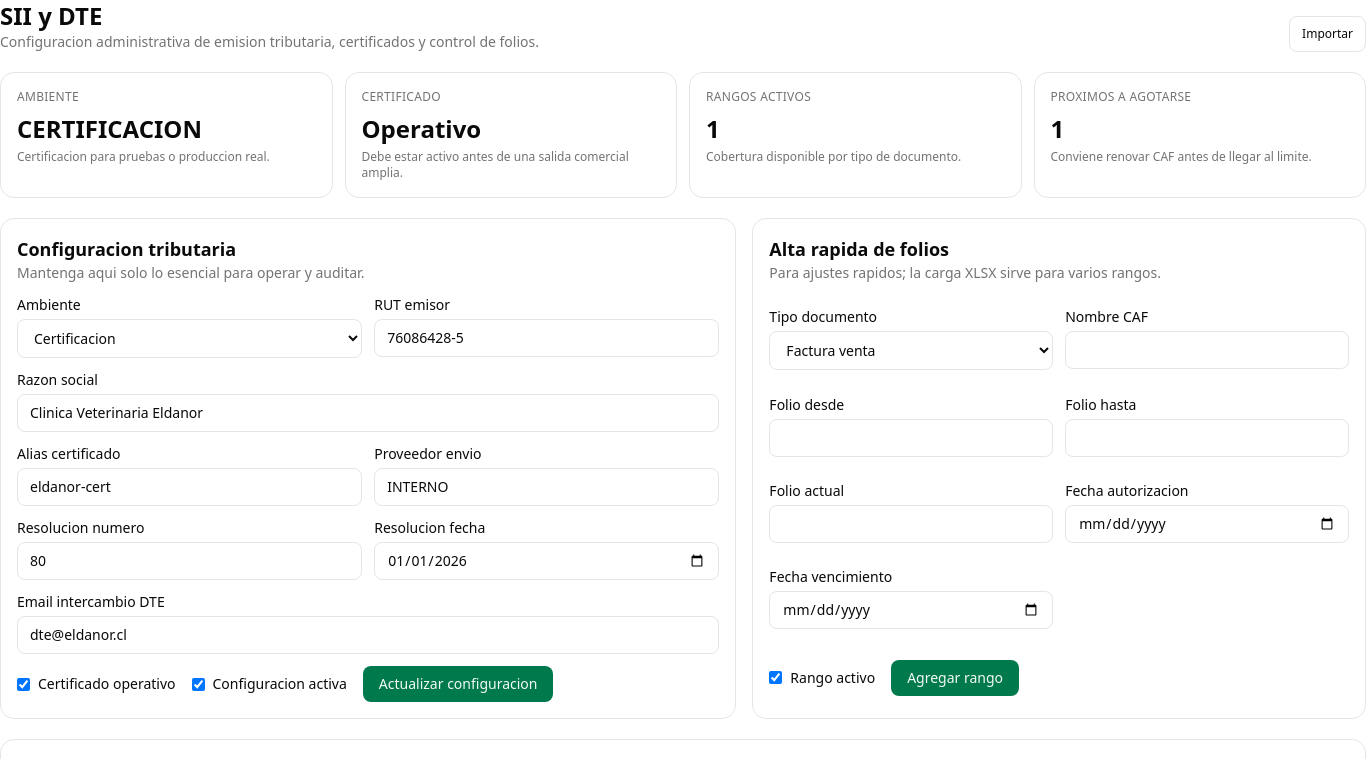
facturacion/FacturacionSiiPage › carga configuracion y registra un rango tributario
Expected: the heading "SII y DTE" is shown, [0, 0, 102, 32]
Expected: the field showing "Clinica Veterinaria Eldanor" is shown, [17, 394, 719, 432]
Type "CAF GUIAS" into the field labelled "Nombre CAF" at (1207, 350), box [1065, 331, 1349, 369]
Type "500" into the number field labelled "Folio desde" at (911, 438), box [769, 419, 1053, 457]
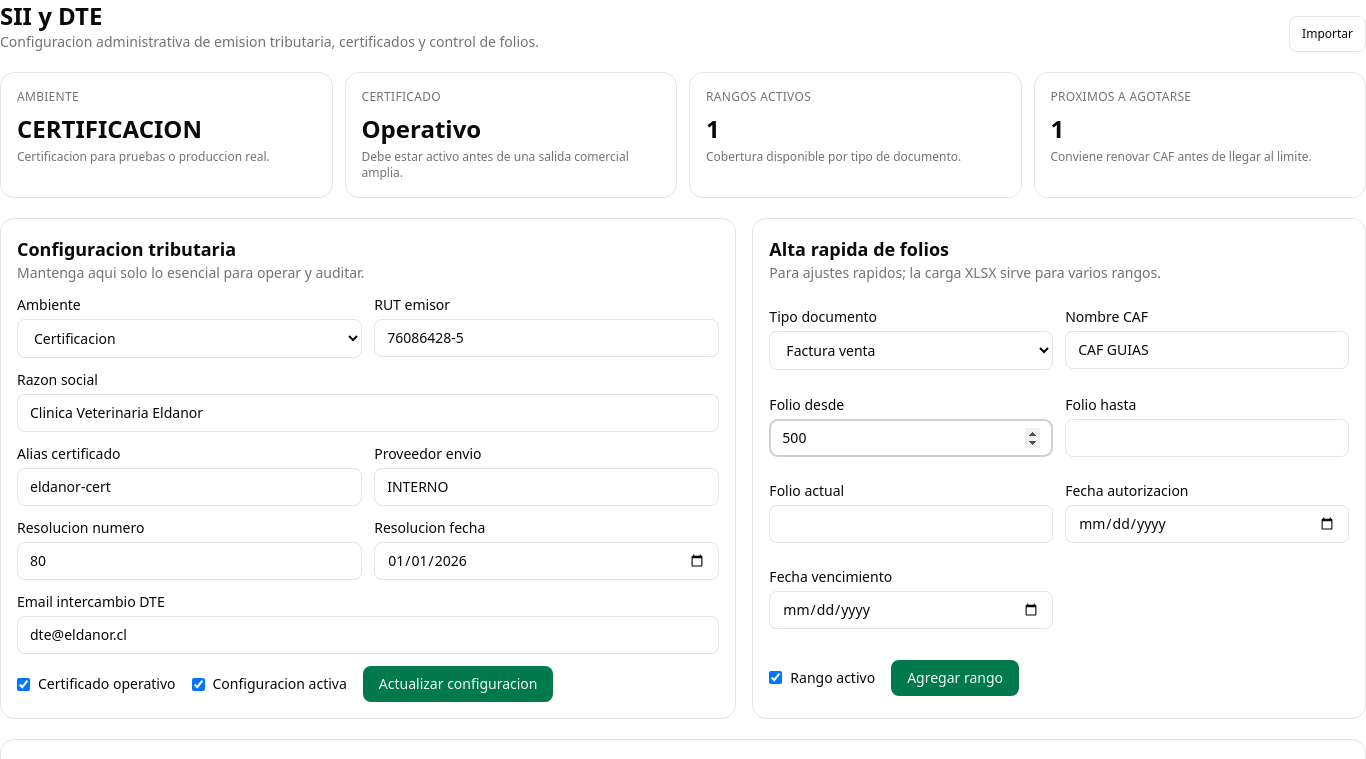
Type "600" into the number field labelled "Folio hasta" at (1207, 438), box [1065, 419, 1349, 457]
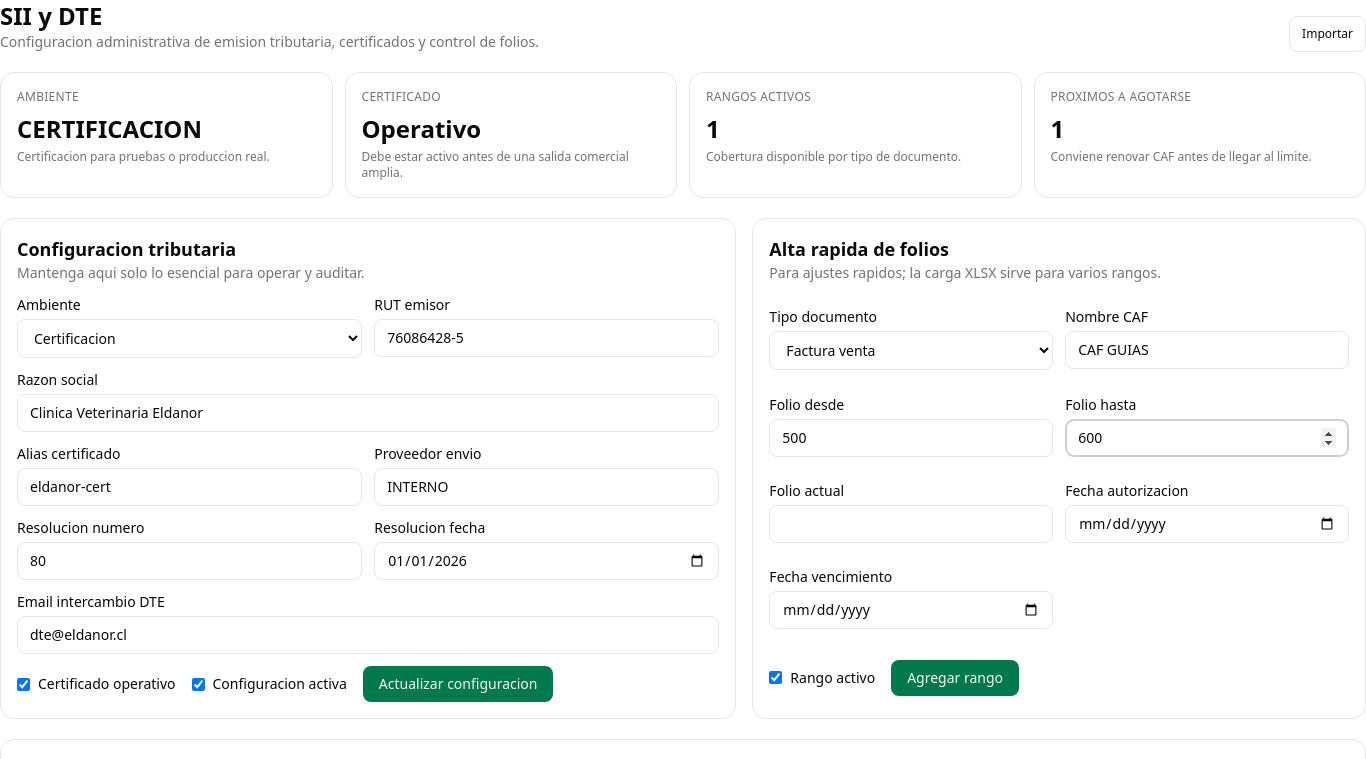
Type "2026-01-01" into the date field labelled "Fecha autorizacion" at (1207, 524), box [1065, 505, 1349, 543]
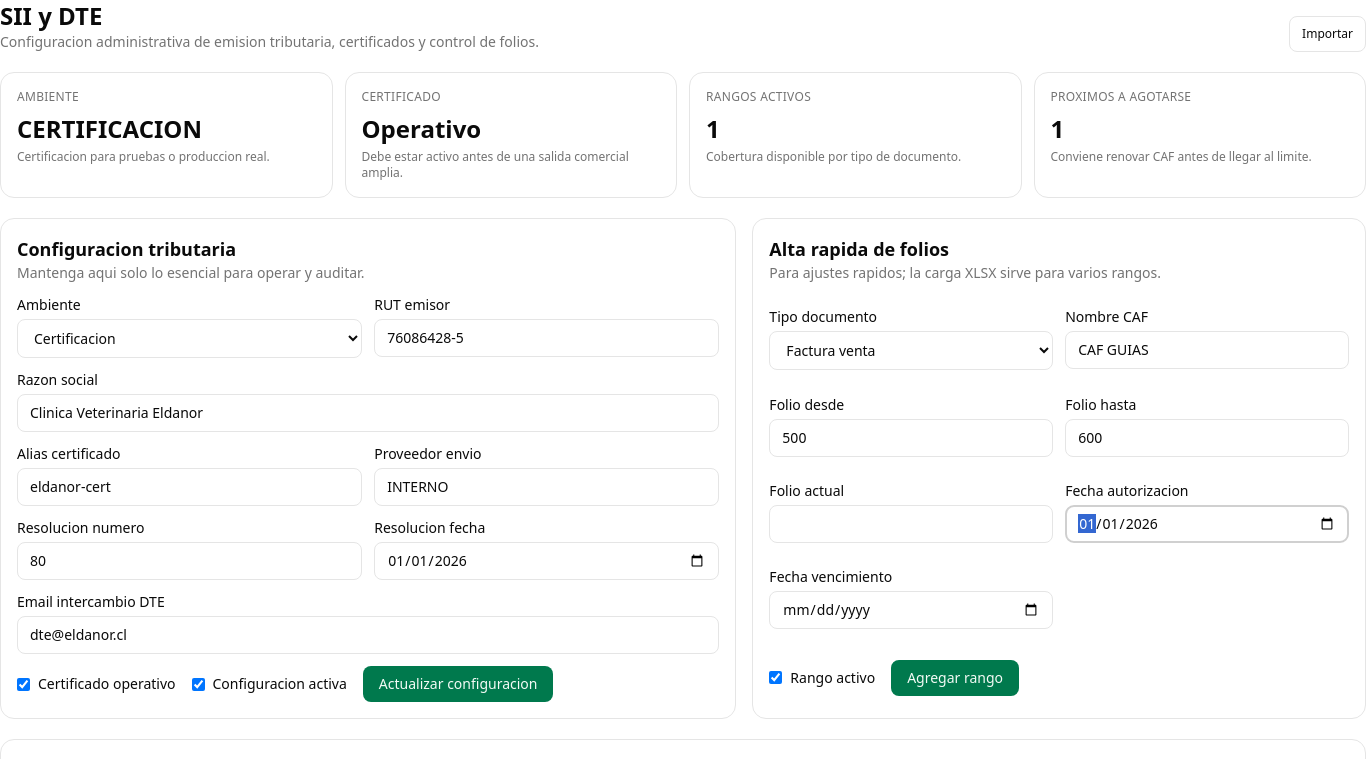
Type "2026-12-31" into the date field labelled "Fecha vencimiento" at (911, 610), box [769, 591, 1053, 629]
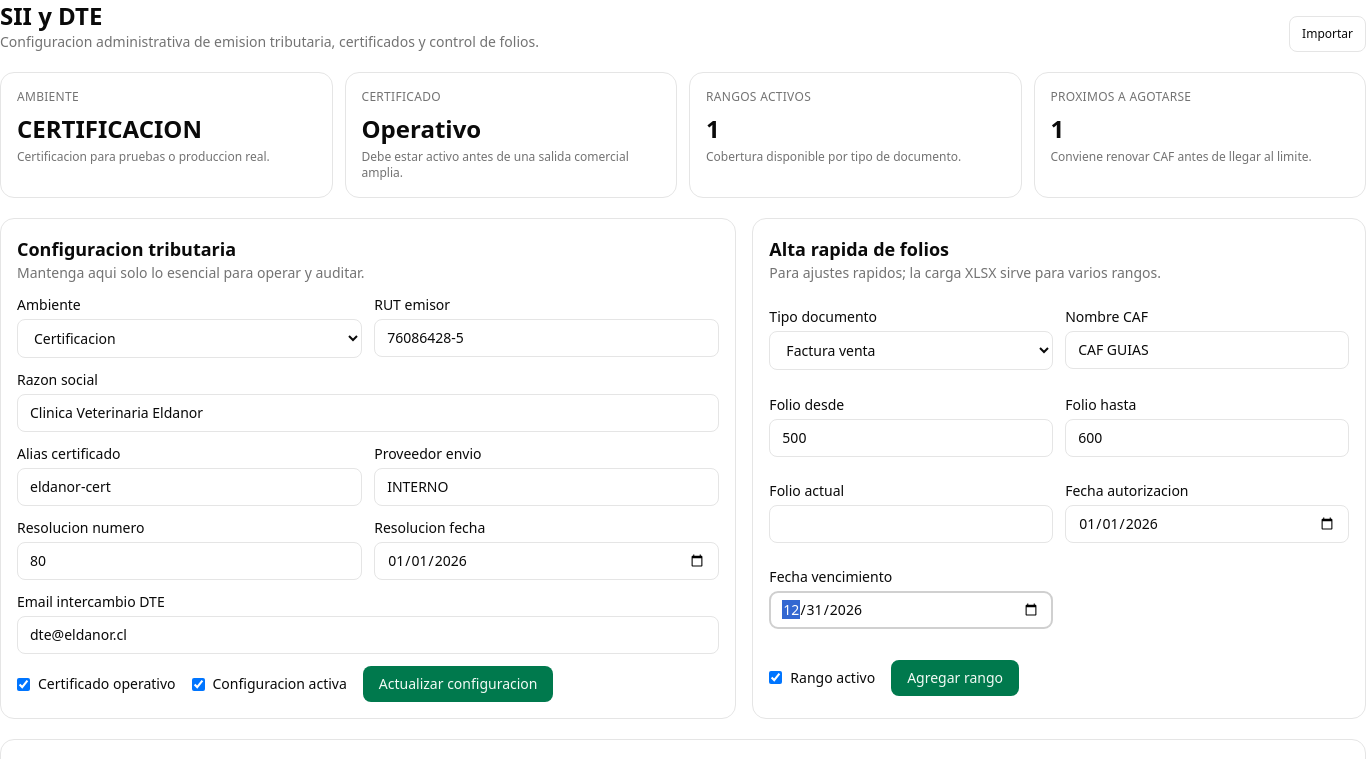
Select "Guia despacho" in the dropdown labelled "Tipo documento" at (911, 351), box [769, 331, 1053, 370]
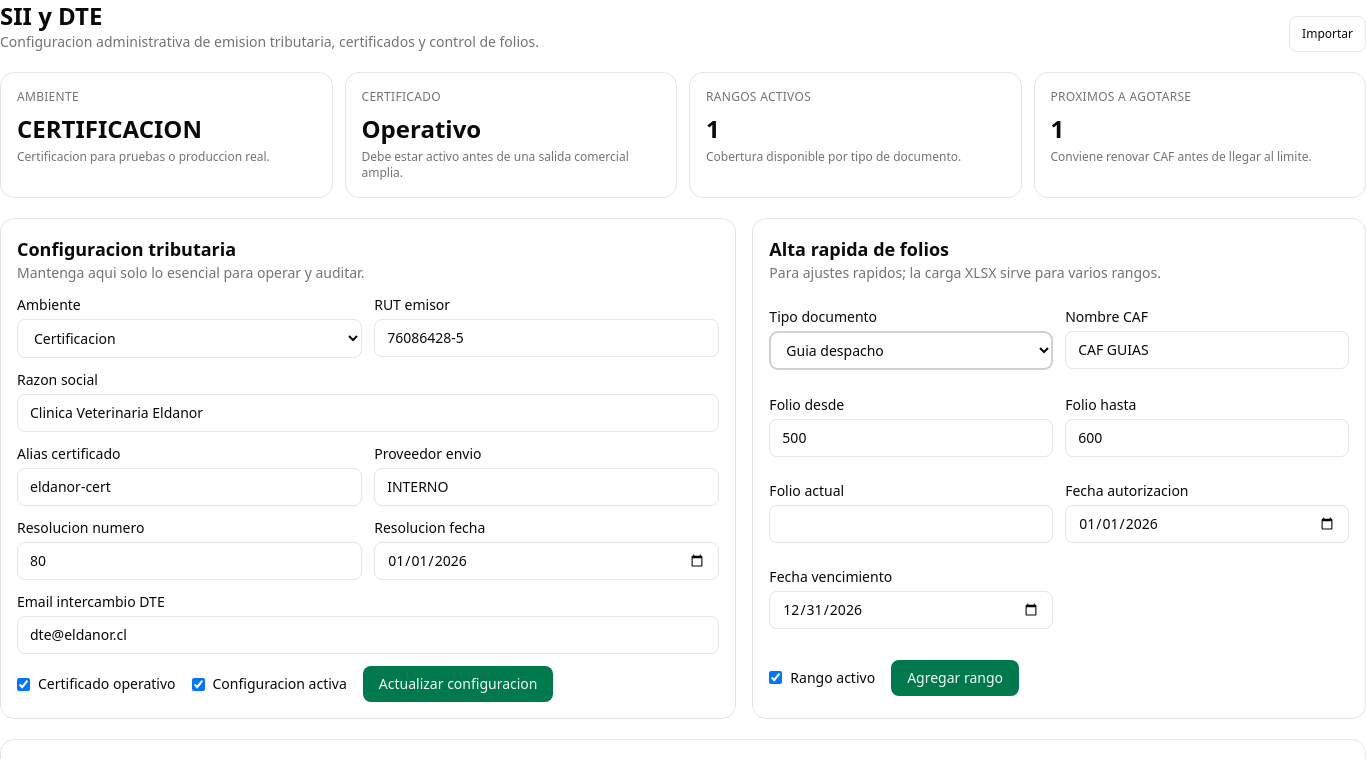
Click the button "Agregar rango" at (955, 678), box [891, 660, 1019, 696]
(page scrolled)
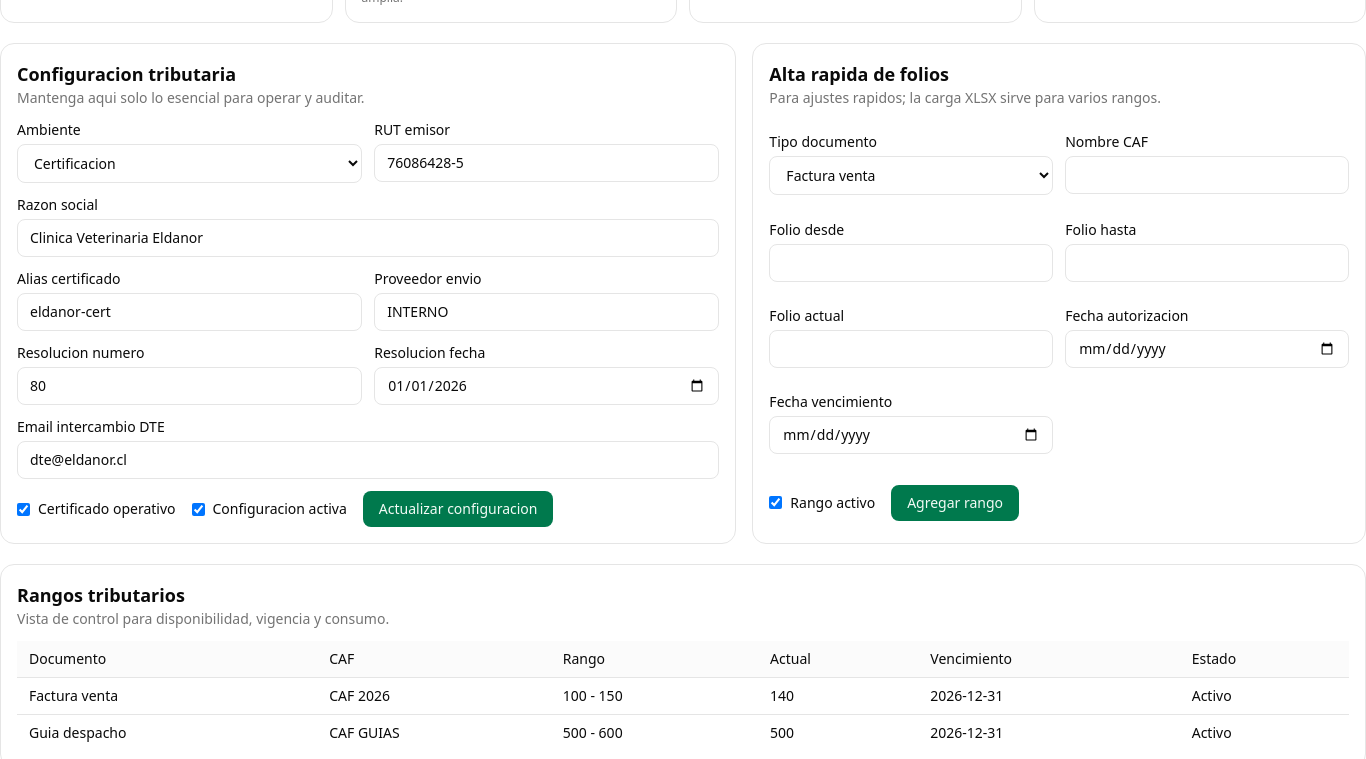
Expected: the text "CAF GUIAS" is shown, [317, 714, 551, 751]
